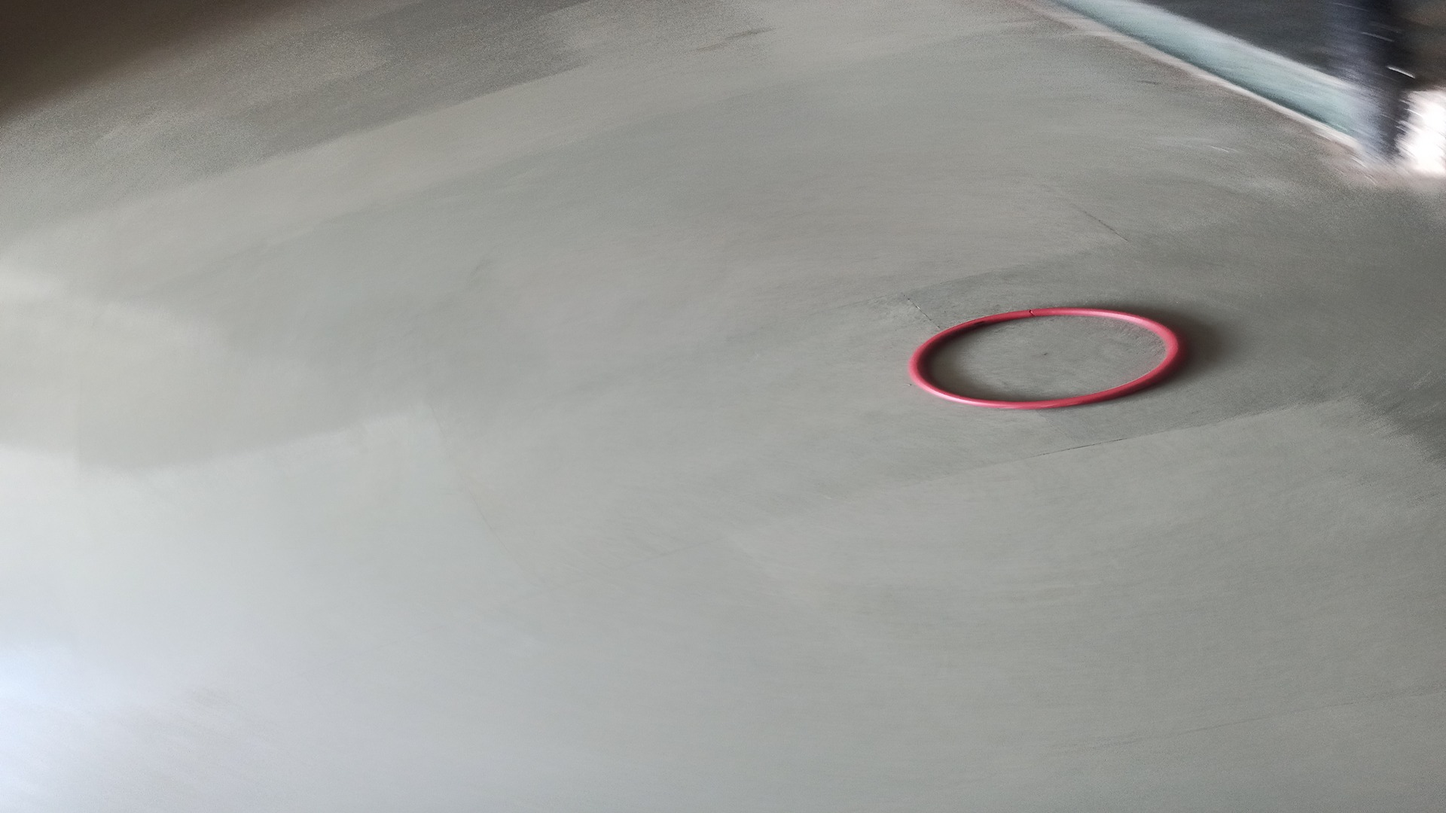Red ring: (905, 304, 1184, 413)
